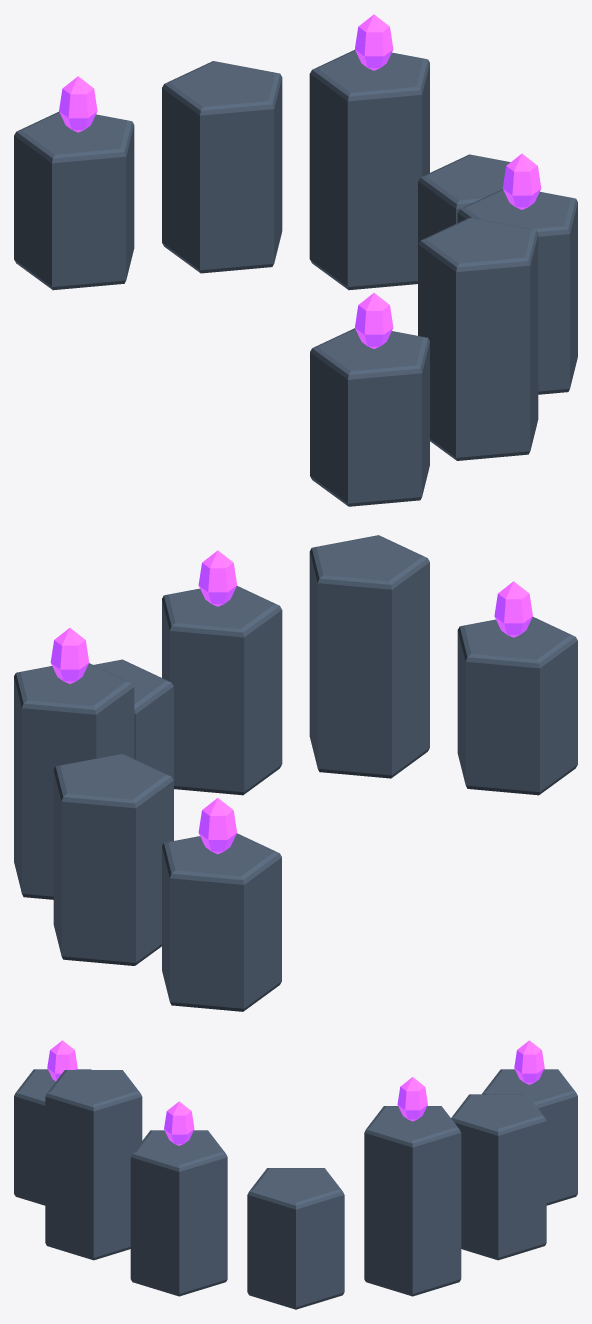
Rendered from moonsteel-convergence-boss-arena-rim-6da78b92__18195.glb.
The picture shows the model from 3 angles, top to bottom: view 1: azimuth 30°, elevation 25°; view 2: azimuth 150°, elevation 25°; view 3: azimuth 270°, elevation 25°; orthographic projection. The views are drawn at different scales.
Parts seen in each view (by area): view 1: boss-arena-rim; view 2: boss-arena-rim; view 3: boss-arena-rim.
Part boxes in pixels (bbox=[...]): boss-arena-rim: bbox=[14, 14, 577, 506]; boss-arena-rim: bbox=[14, 535, 577, 1011]; boss-arena-rim: bbox=[14, 1040, 577, 1309].
Size of the model in its own units: 3.63 by 2.46 by 6.28.
